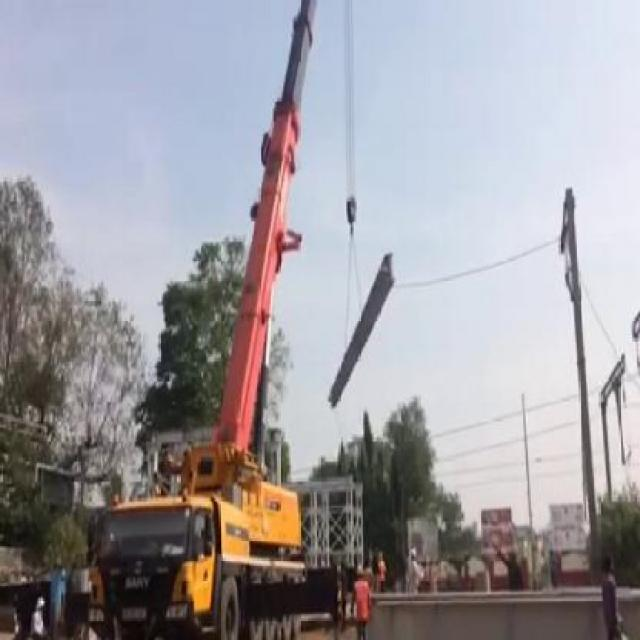Mobile Crane: (84, 0, 327, 634)
